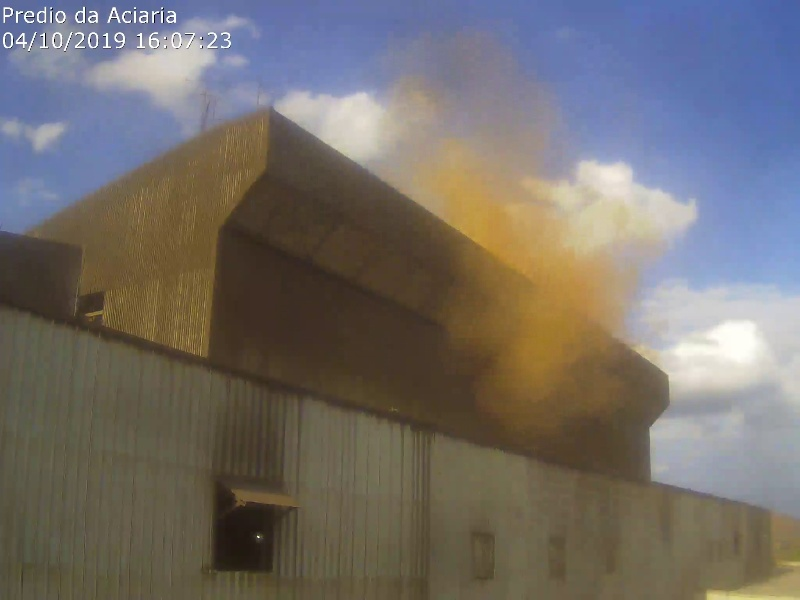bom: (1, 1, 290, 173), (683, 19, 800, 252)
pessimo: (428, 159, 677, 440)
ruim: (389, 32, 600, 155)
